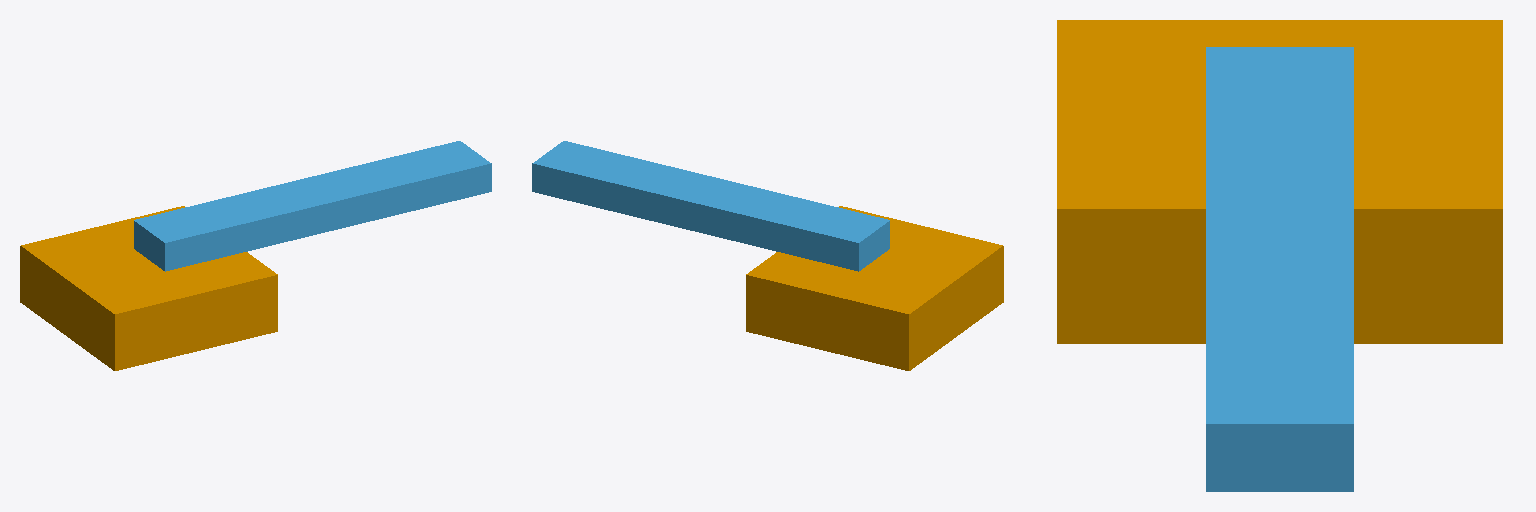
URDF robot description (arm):
<?xml version="1.0"?>
<!--
  robot: arm | consumers: MuJoCo (sfab-bench world), CAD Viewer
  units: meters, kilograms, radians | frames: +X forward, +Y left, +Z up (REP-103)
  root: base | source of dimensions: examples/arm/robot/cad/base.py, examples/arm/robot/cad/upper_arm.py, examples/arm/robot/cad/arm.py
  meshes: meshes/, one STL per link exported in that link's frame, source units mm, scale 0.001
  inertials: cadgen.geometry.mass_properties on the link STEP solids
             at PLA density 1.24 g/cm³ = 1.24e-6 kg/mm³
             off-diagonal terms below 1e-20 kg·m² were written as 0
  links:
  - base | physical | frame at center of the bottom face, +Z up | parent joint: none (root, fixed to the world by the consumer)
    visual: meshes/base.stl identity | collision: box 0.06 0.06 0.02 at xyz 0 0 0.01
    mass 0.08928 kg | com 0 0 0.01 | inertia about com, link axes
  - upper_arm | physical | frame at the shoulder, center of the proximal end face, bar along +X
    parent joint: shoulder | visual: meshes/upper_arm.stl identity
    collision: box 0.12 0.02 0.01 at xyz 0.06 0 0
    mass 0.02976 kg | com 0.06 0 0 | inertia about com, link axes
  joints:
  - shoulder | revolute | parent base | child upper_arm
    origin xyz 0 0 0.025 (base top 0.020 plus half the 0.010 bar thickness, so the faces coincide)
    axis 0 0 1 in the joint frame | limits 0 .. 150° = 0 .. 2.617993877991494 rad
    positive motion: right-hand rotation about +Z, the arm swings from +X toward +Y
    source: examples/arm/robot/cad/arm.py mate "shoulder"
  assumptions:
  - shoulder effort 0.18 N·m and velocity 10.472 rad/s are hobby-servo class placeholders, not measured
  - joint damping 0.001 N·m·s/rad is a small numerical damper, not a datasheet value
  - collision boxes match the CAD envelopes; visuals are the STL meshes
  - base is the URDF root and is fixed to the world when attached (no floating joint)
  - link names are base and upper_arm, joint name is shoulder
  - MuJoCo compiler fusestatic=false and discardvisual=false are set in the mujoco extension
-->
<robot name="arm">
  <mujoco>
    <compiler fusestatic="false" discardvisual="false"/>
  </mujoco>
  <link name="base">
    <inertial>
      <origin xyz="0 0 0.01" rpy="0 0 0"/>
      <mass value="0.08928"/>
      <inertia ixx="0.00002976" ixy="0" ixz="0" iyy="0.00002976" iyz="0" izz="0.000053568"/>
    </inertial>
    <visual>
      <origin xyz="0 0 0" rpy="0 0 0"/>
      <geometry>
        <mesh filename="meshes/base.stl" scale="0.001 0.001 0.001"/>
      </geometry>
    </visual>
    <collision>
      <origin xyz="0 0 0.01" rpy="0 0 0"/>
      <geometry>
        <box size="0.06 0.06 0.02"/>
      </geometry>
    </collision>
  </link>
  <link name="upper_arm">
    <inertial>
      <origin xyz="0.06 0 0" rpy="0 0 0"/>
      <mass value="0.02976"/>
      <inertia ixx="0.00000124" ixy="0" ixz="0" iyy="0.00003596" iyz="0" izz="0.000036704"/>
    </inertial>
    <visual>
      <origin xyz="0 0 0" rpy="0 0 0"/>
      <geometry>
        <mesh filename="meshes/upper_arm.stl" scale="0.001 0.001 0.001"/>
      </geometry>
    </visual>
    <collision>
      <origin xyz="0.06 0 0" rpy="0 0 0"/>
      <geometry>
        <box size="0.12 0.02 0.01"/>
      </geometry>
    </collision>
  </link>
  <joint name="shoulder" type="revolute">
    <parent link="base"/>
    <child link="upper_arm"/>
    <origin xyz="0 0 0.025" rpy="0 0 0"/>
    <axis xyz="0 0 1"/>
    <limit lower="0" upper="2.617993877991494" effort="0.18" velocity="10.472"/>
    <dynamics damping="0.001" friction="0"/>
  </joint>
</robot>

--- Render facts (derived) ---
3 views of the same robot in one strip: view 1: azimuth 30°, elevation 25°; view 2: azimuth 150°, elevation 25°; view 3: azimuth 270°, elevation 25° (orthographic).
Robot: arm — 2 links, 1 joints (1 revolute); root link base; default pose: every joint at zero.
Visible links, largest first — view 1: base, upper_arm; view 2: base, upper_arm; view 3: base, upper_arm.
Boxes of the visible links, box(x1,y1,x2,y2) form: base: box(20, 206, 277, 370); upper_arm: box(134, 141, 491, 271); base: box(746, 206, 1003, 370); upper_arm: box(532, 141, 889, 271); base: box(1057, 20, 1502, 343); upper_arm: box(1206, 47, 1353, 491).
Bounding box of the posed robot: 0.15 × 0.06 × 0.03 m (x, y, z).
2 mesh visuals loaded from 2 distinct referenced files (2 binary STL).
